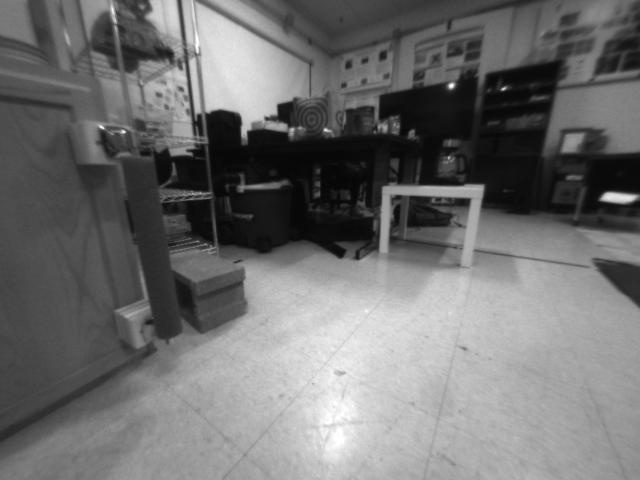coffee_pot: (416, 131, 473, 185)
